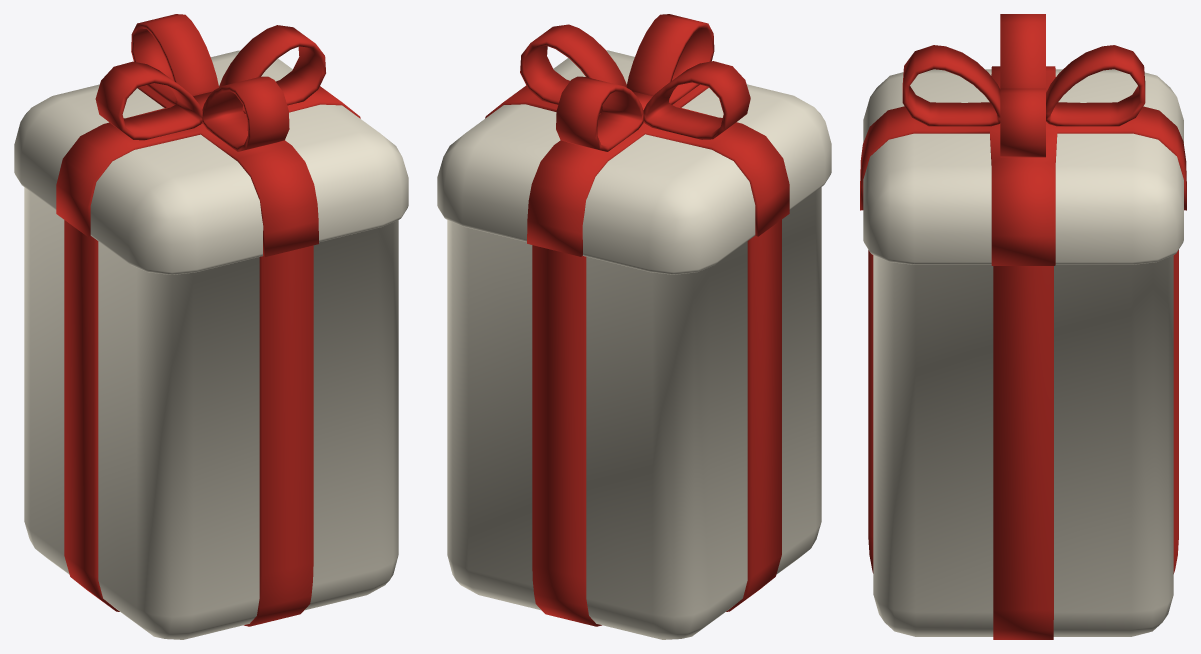
The model's file is regalo1_uvs.fbx.
3 renders of one model, left to right at view 1: azimuth 30°, elevation 25°; view 2: azimuth 150°, elevation 25°; view 3: azimuth 270°, elevation 25°, orthographic.
Parts seen in each view (by area): view 1: regalo.004; view 2: regalo.004; view 3: regalo.004.
Part boxes in pixels (x1=…): regalo.004: x1=14, y1=14, x2=408, y2=639; regalo.004: x1=437, y1=14, x2=831, y2=639; regalo.004: x1=860, y1=14, x2=1186, y2=639.
Bounding box in the file's own units: 63.85 × 116 × 63.82.
